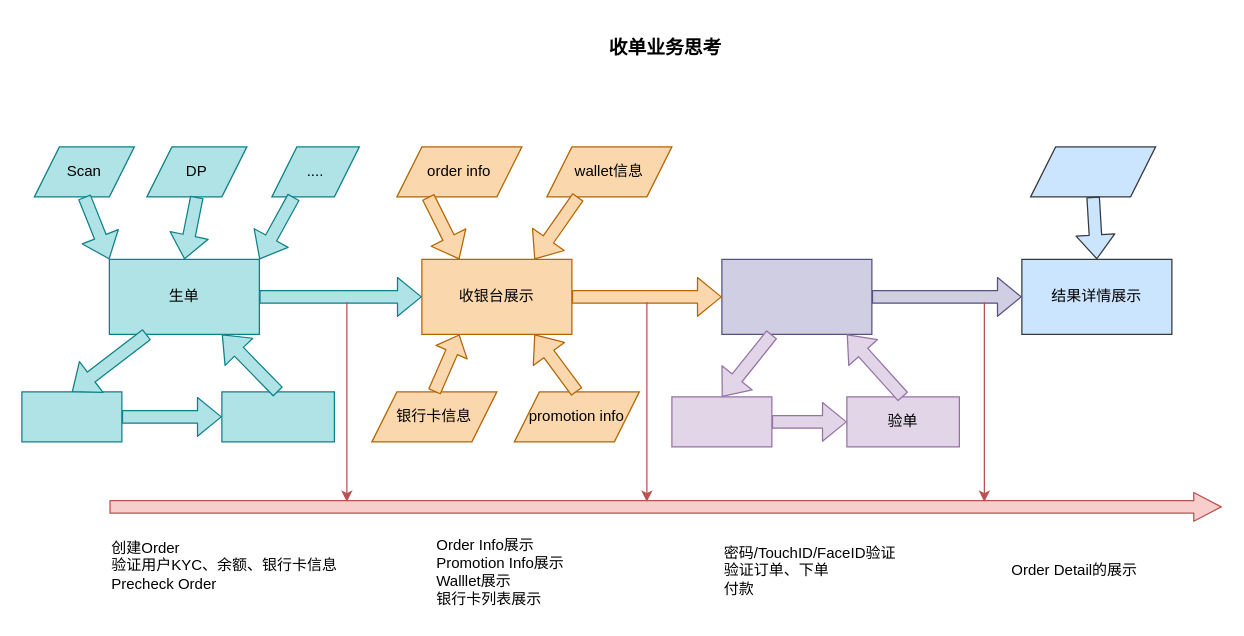
Some shapes in this 1244 by 636 pixel diagram are drawn without their labels. Each missing label, with the centre of its shape:
order detail: the point at 1092,171
PP验证: the point at 721,421
付款: the point at 796,296
生成order信息: the point at 277,416
用户信息验证: the point at 71,416
